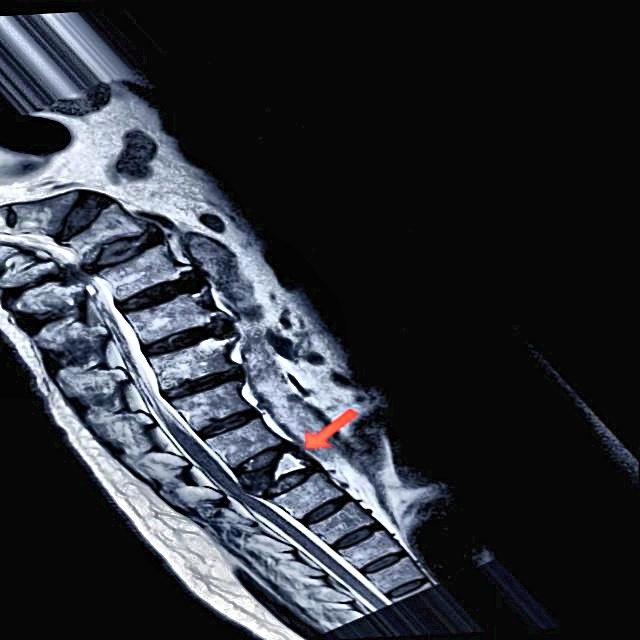Comminuted: (220, 434, 327, 517)
